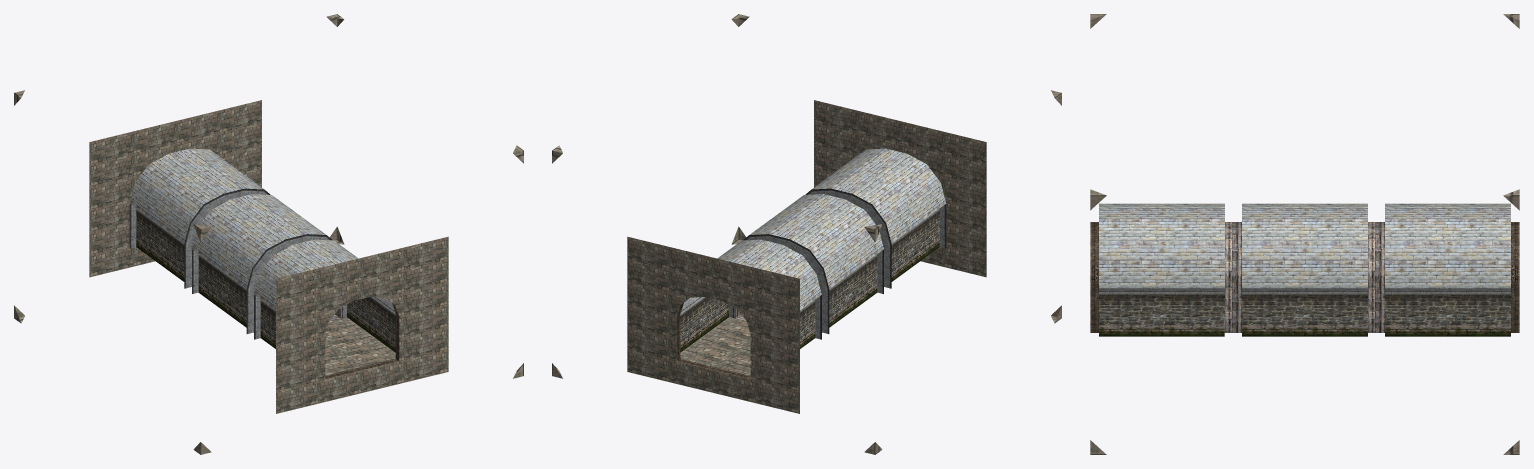
Rendered from lbg_2f.glb.
The picture shows the model from 3 angles, left to right: view 1: azimuth 30°, elevation 25°; view 2: azimuth 150°, elevation 25°; view 3: azimuth 270°, elevation 25°; orthographic projection. The views are drawn at different scales.
Parts seen in each view (by area): view 1: lbg_2f-col; view 2: lbg_2f-col; view 3: lbg_2f-col.
Part boxes in pixels (box(x1,y1,x2,y2)): lbg_2f-col: box(14, 14, 523, 454); lbg_2f-col: box(552, 14, 1061, 454); lbg_2f-col: box(1090, 14, 1519, 454).
Size of the model in its own units: 15 by 10 by 15.
6 materials, 6 textured.
